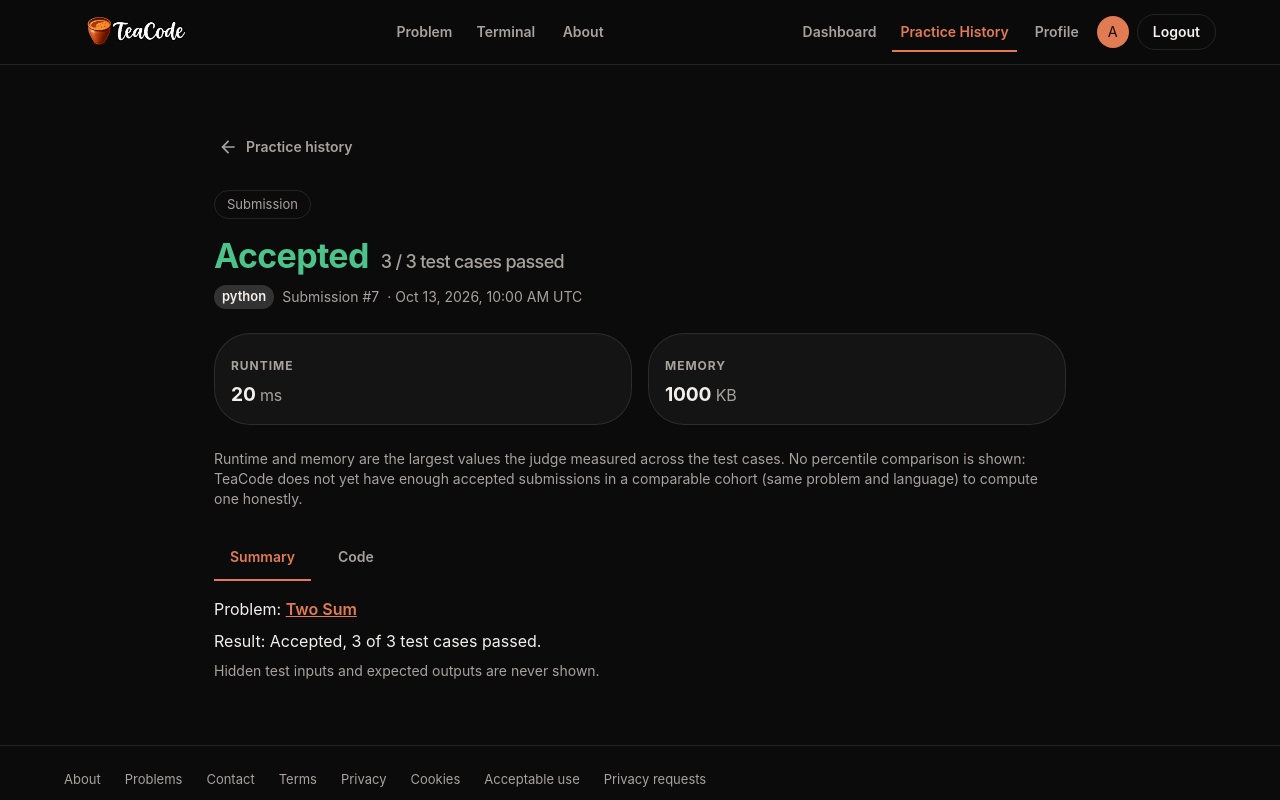
Test: submission detail › shows verdict, exact test counts, units, local time and read-only code
Expected: the heading "Accepted3 / 3 test cases passed" is shown, [214,235,564,276]
Expected: the text "20" is shown, [231,382,256,406]
Click the tab "Code". click: point(356, 556)
box: [311,532,401,580]
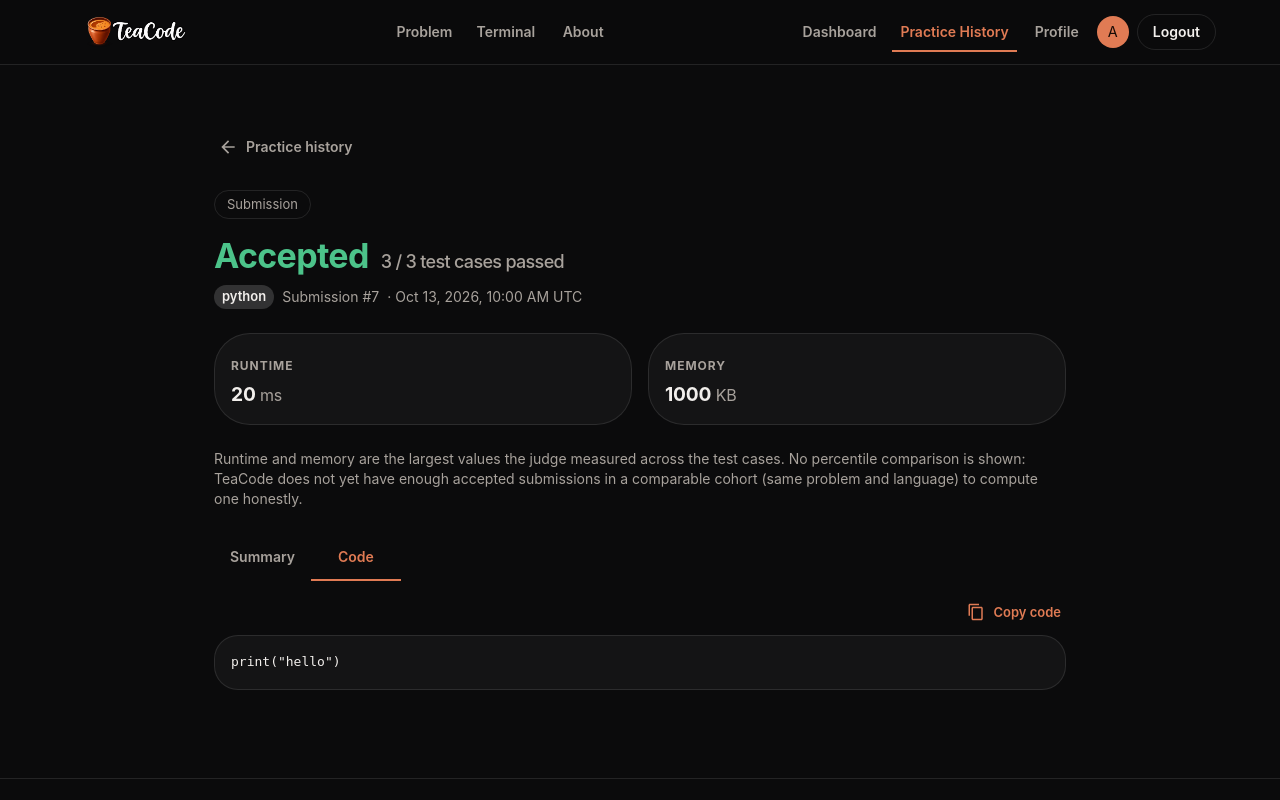
Expected: the text named "Submitted source code (read only)" reads "print(\"hello\")", [231,654,341,669]
Expected: the button "Copy code" is shown, [964,596,1066,627]
